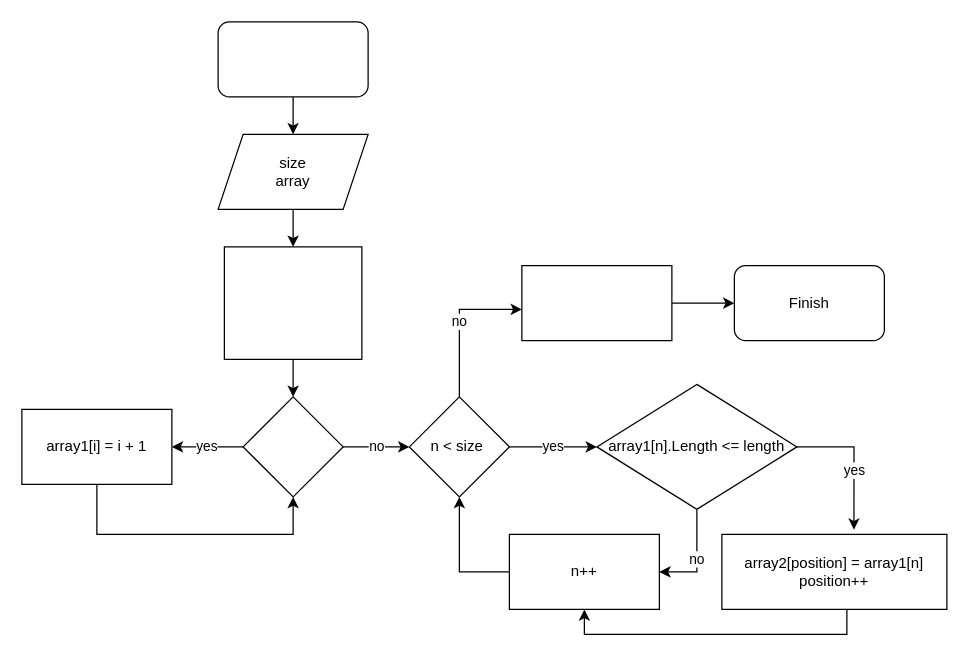
Image size: 969x666. Some labels were removed from this diagram. Here are the shapes that lost their labels. From the top down, the box of each, then its label:
(217, 21, 368, 97): Start
(223, 246, 362, 359): array1[size] array2[size] i = 0; n= 0 length = 3 position = 0
(521, 264, 672, 341): pirnt(array2)
(242, 396, 343, 497): i < size
